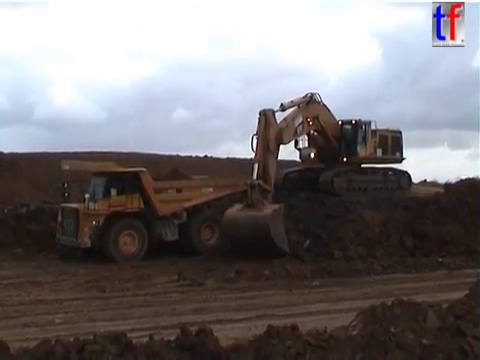excavator: (219, 89, 416, 260)
truck: (54, 156, 253, 264)
